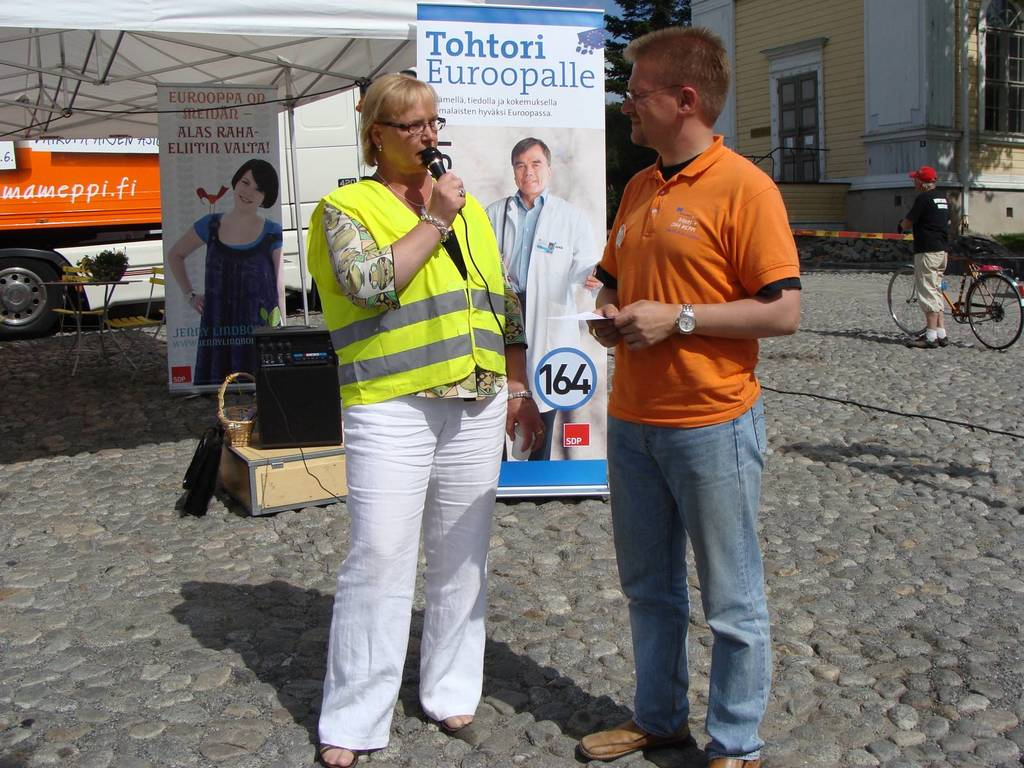Footwear: (577, 717, 692, 754), (709, 750, 762, 767), (319, 744, 358, 767), (444, 716, 470, 744), (909, 333, 951, 348)
